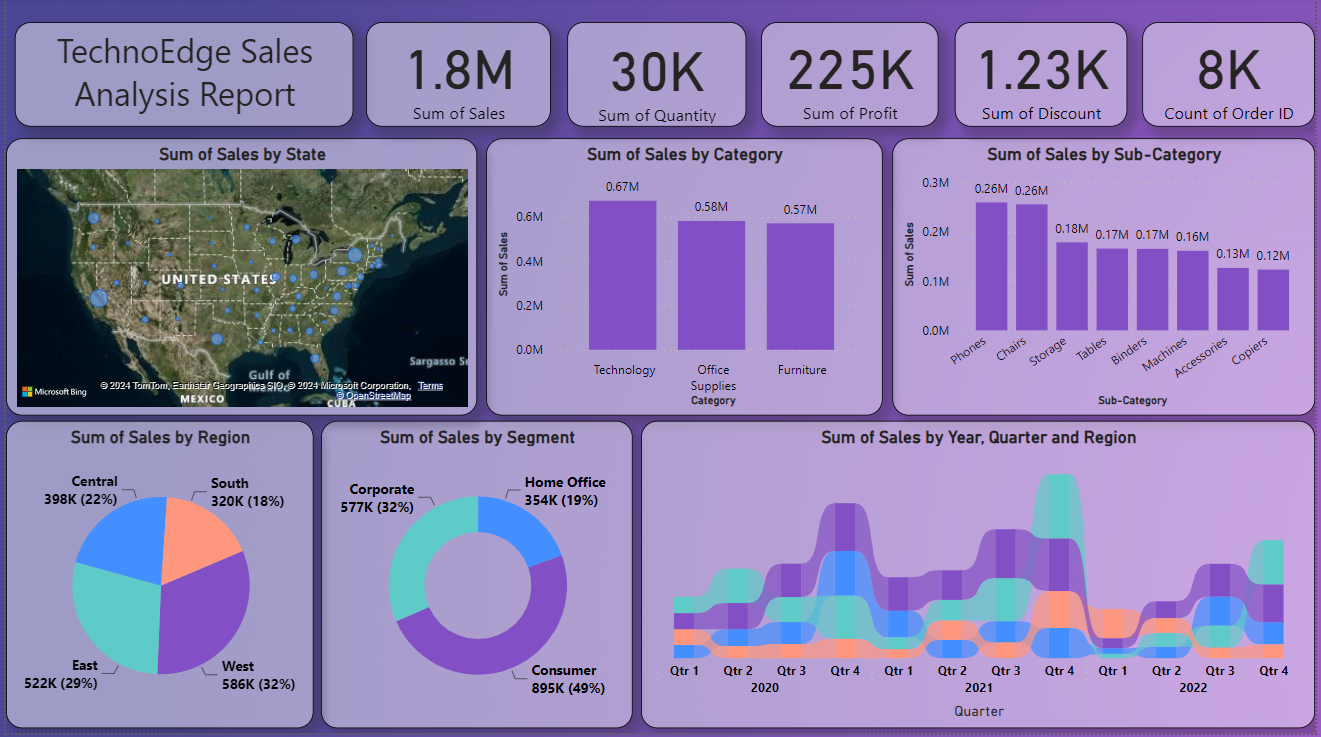

Layout of this report page (visuals, bound fields, positions):
{"tool":"powerbi","page":{"name":"Page 1","canvas":[1280,720],"ordinal":0},"visuals":[{"type":"clusteredColumnChart","fields":{"Category":["TechnoEdge Monthy Sales Data.Sub-Category"],"Y":["Sum(TechnoEdge Monthy Sales Data.Sales)"]},"box":[867,138.2,413.3,271.5],"z":0},{"type":"clusteredColumnChart","fields":{"Category":["TechnoEdge Monthy Sales Data.Category"],"Y":["Sum(TechnoEdge Monthy Sales Data.Sales)"]},"box":[469.6,138.2,387.6,271.5],"z":1000},{"type":"donutChart","fields":{"Category":["TechnoEdge Monthy Sales Data.Segment"],"Y":["Sum(TechnoEdge Monthy Sales Data.Sales)"]},"box":[308.2,414.5,304.5,300.8],"z":2000},{"type":"map","fields":{"Category":["TechnoEdge Monthy Sales Data.State"],"Size":["Sum(TechnoEdge Monthy Sales Data.Sales)"]},"box":[0,138.2,461,271.5],"z":3000},{"type":"pieChart","fields":{"Category":["TechnoEdge Monthy Sales Data.Region"],"Y":["Sum(TechnoEdge Monthy Sales Data.Sales)"]},"box":[0,414.5,300.8,300.8],"z":4000},{"type":"ribbonChart","fields":{"Category":["TechnoEdge Monthy Sales Data.Order Date.Variation.Date Hierarchy.Year","TechnoEdge Monthy Sales Data.Order Date.Variation.Date Hierarchy.Quarter"],"Series":["TechnoEdge Monthy Sales Data.Region"],"Y":["Sum(TechnoEdge Monthy Sales Data.Sales)"]},"box":[621.2,414.5,659.1,300.8],"z":5000},{"type":"card","fields":{"Values":["Sum(TechnoEdge Monthy Sales Data.Sales)"]},"box":[352.2,24.5,181,102.7],"z":6000},{"type":"card","fields":{"Values":["Sum(TechnoEdge Monthy Sales Data.Discount)"]},"box":[928.1,24.5,168.8,102.7],"z":7000},{"type":"card","fields":{"Values":["Sum(TechnoEdge Monthy Sales Data.Quantity)"]},"box":[549.1,24.5,174.9,102.7],"z":8000},{"type":"card","fields":{"Values":["Sum(TechnoEdge Monthy Sales Data.Profit)"]},"box":[738.6,24.5,173.6,102.7],"z":9000},{"type":"card","fields":{"Values":["CountNonNull(TechnoEdge Monthy Sales Data.Order ID)"]},"box":[1111.6,24.5,168.8,102.7],"z":10000},{"type":"textbox","box":[8.6,24.5,331.4,102.7],"z":11000}]}

Visuals, with their boxes in screenshot pixels (x1, y1, x2, y2), scaled from the page's 1280x720 canvas onto the 1321x737 screenshot:
clusteredColumnChart - TechnoEdge Monthy Sales Data.Sub-Category x Sum(TechnoEdge Monthy Sales Data.Sales): detection(895, 141, 1320, 419)
clusteredColumnChart - TechnoEdge Monthy Sales Data.Category x Sum(TechnoEdge Monthy Sales Data.Sales): detection(485, 141, 885, 419)
donutChart - TechnoEdge Monthy Sales Data.Segment x Sum(TechnoEdge Monthy Sales Data.Sales): detection(318, 424, 632, 732)
map - TechnoEdge Monthy Sales Data.State x Sum(TechnoEdge Monthy Sales Data.Sales): detection(0, 141, 476, 419)
pieChart - TechnoEdge Monthy Sales Data.Region x Sum(TechnoEdge Monthy Sales Data.Sales): detection(0, 424, 310, 732)
ribbonChart - TechnoEdge Monthy Sales Data.Order Date.Variation.Date Hierarchy.Year x TechnoEdge Monthy Sales Data.Order Date.Variation.Date Hierarchy.Quarter: detection(641, 424, 1320, 732)
card - Sum(TechnoEdge Monthy Sales Data.Sales): detection(363, 25, 550, 130)
card - Sum(TechnoEdge Monthy Sales Data.Discount): detection(958, 25, 1132, 130)
card - Sum(TechnoEdge Monthy Sales Data.Quantity): detection(567, 25, 747, 130)
card - Sum(TechnoEdge Monthy Sales Data.Profit): detection(762, 25, 941, 130)
card - CountNonNull(TechnoEdge Monthy Sales Data.Order ID): detection(1147, 25, 1320, 130)
textbox: detection(9, 25, 351, 130)
